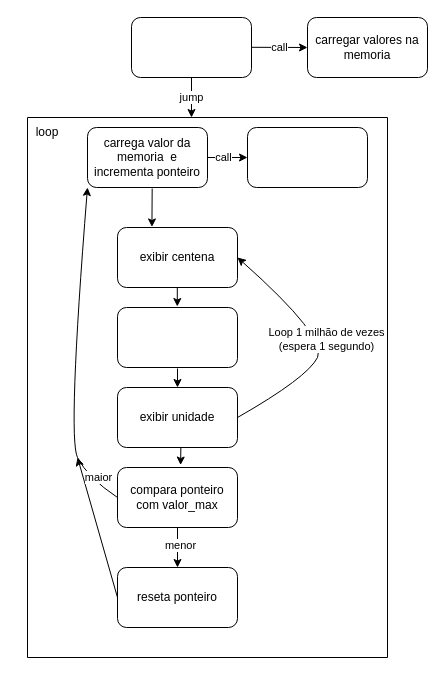
The diagram is 445 pixels wide and 675 high, and some of its shapes have lost their labels. Each missing label, with the box of its shape:
BINBCD: (246, 126, 368, 188)
exibir dezena: (116, 306, 238, 368)
função setup: (130, 16, 252, 78)
